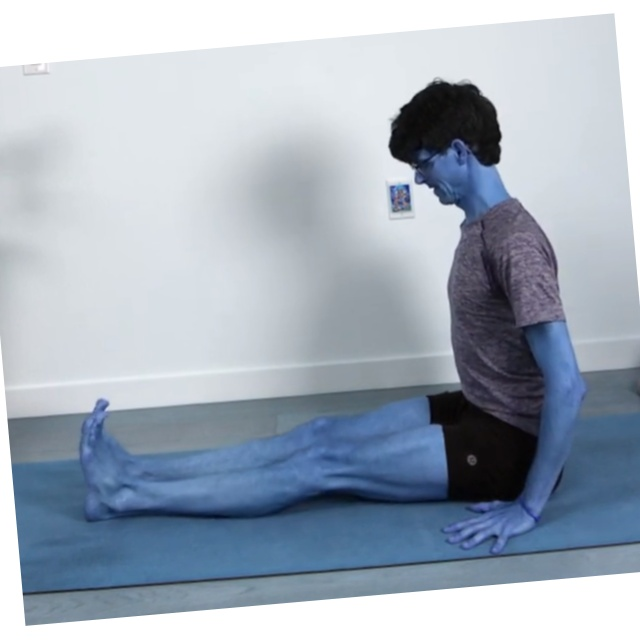Staff_Pose: (75, 77, 587, 555)
